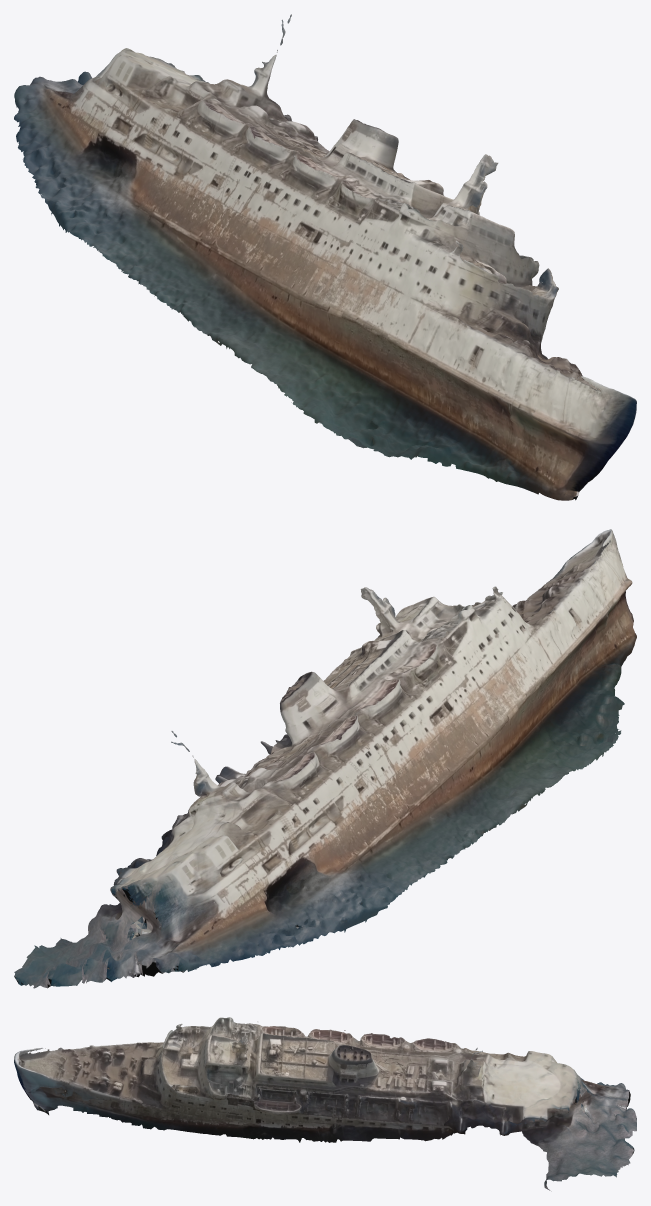
File: wreck_of_cruise_ship_saudi_red_sea_coast.glb
3 views of the same model, one above another, from view 1: azimuth 30°, elevation 25°; view 2: azimuth 150°, elevation 25°; view 3: azimuth 270°, elevation 25° (orthographic). The views are drawn at different scales.
Parts seen in each view (by area): view 1: Object_2, Object_3; view 2: Object_2, Object_3; view 3: Object_3, Object_2.
Boxes of the visible parts, x1,y1,x2,y2 form: Object_2: (18, 14, 634, 500); Object_3: (14, 19, 636, 500); Object_2: (64, 529, 636, 962); Object_3: (14, 529, 631, 988); Object_3: (14, 1017, 636, 1191); Object_2: (14, 1017, 591, 1172).
Size of the model in its own units: 157 by 122 by 500.
Materials: 2 (2 with a texture image).
